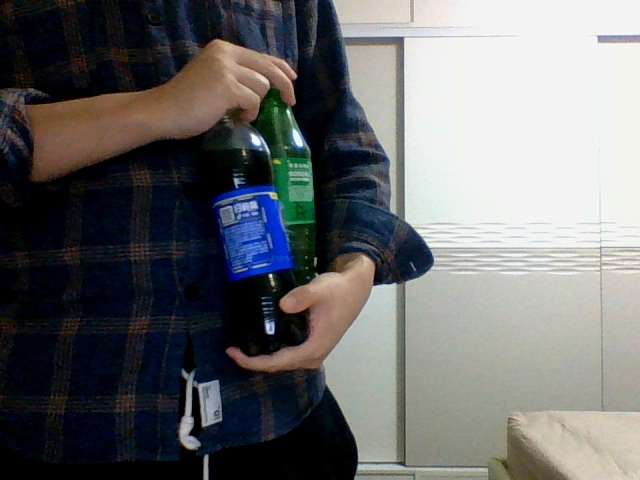Cola: (202, 112, 302, 353)
Sprite: (260, 90, 316, 292)
